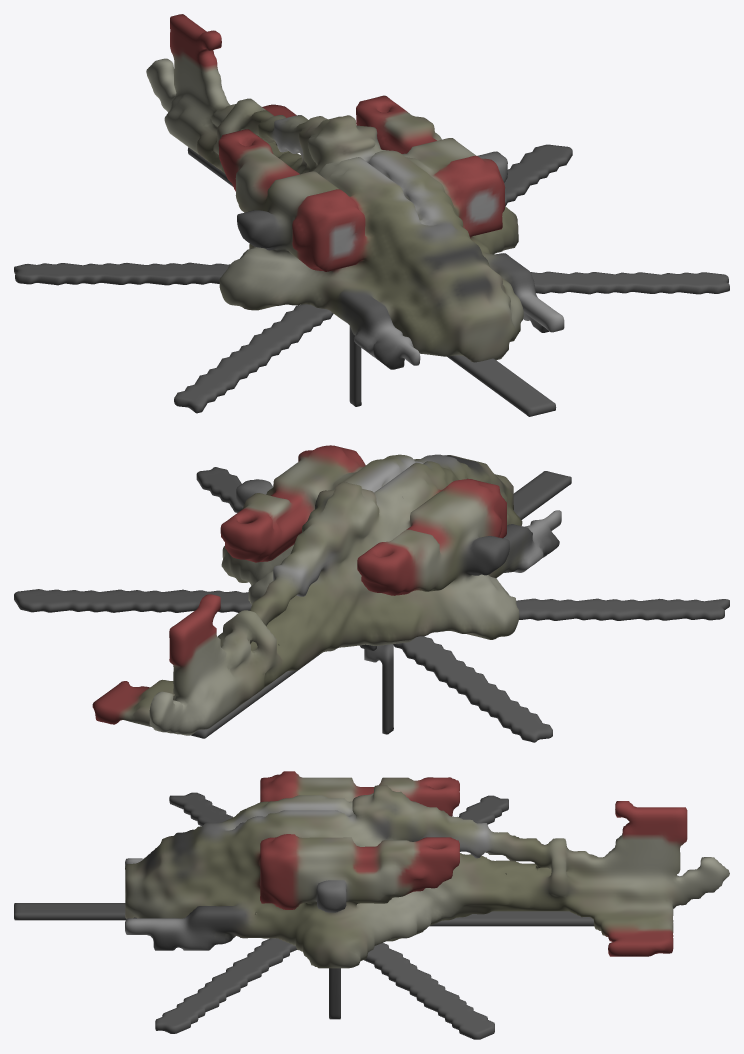
File: siege_chopper.glb
The picture shows the model from 3 angles, top to bottom: view 1: azimuth 30°, elevation 25°; view 2: azimuth 150°, elevation 25°; view 3: azimuth 270°, elevation 25°; orthographic projection. The views are drawn at different scales.
Visible parts, largest first — view 1: siege_chopper; view 2: siege_chopper; view 3: siege_chopper.
Boxes of the visible parts, <box> form: siege_chopper: <box>14,14,729,416</box>; siege_chopper: <box>14,445,729,742</box>; siege_chopper: <box>14,771,729,1039</box>.
Size of the model in its own units: 6.7 by 3.05 by 8.38.
